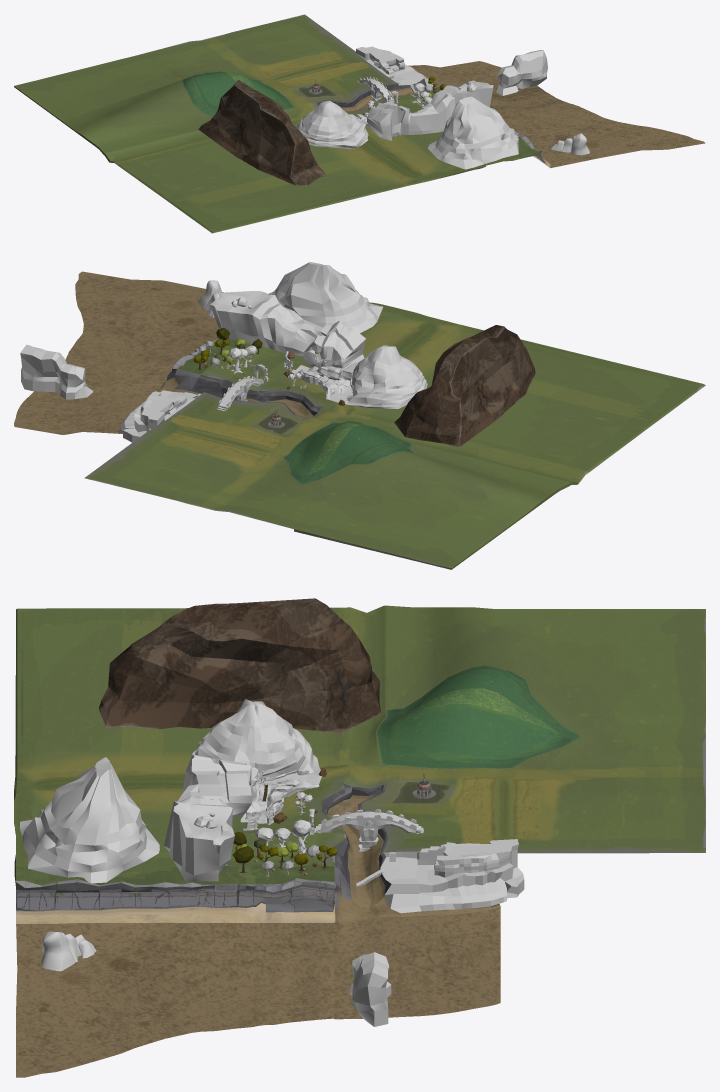
The model's file is CurrentEnviroModel.fbx.
The picture shows the model from 3 angles, top to bottom: view 1: azimuth 30°, elevation 25°; view 2: azimuth 150°, elevation 25°; view 3: azimuth 270°, elevation 25°; orthographic projection. The views are drawn at different scales.
Visible parts, largest first — view 1: TerrainSides, beach, Mountain2, Mountain4, MountainMain, Hill, Mountain2nd, Mountain3rdPart, WaterRock, cliff1, waterRock2, beachSides (+3 smaller); view 2: TerrainSides, beach, Mountain2, Mountain4, Hill, Mountain3rdPart, MountainMain, WaterRock, Mountain2nd, cliff1, tunnelSides, beachSides (+3 smaller); view 3: TerrainSides, beach, Mountain2, beachSides, Hill, Mountain4, cliff1, MountainMain, Mountain3rdPart, river, Mountain2nd, WaterRock (+4 smaller).
Part boxes in pixels (x1,y1,x2,y2): TerrainSides: (14,14,519,233); beach: (408,61,705,167); Mountain2: (198,80,328,185); Mountain4: (428,96,518,169); MountainMain: (296,100,368,148); Hill: (182,71,294,116); Mountain2nd: (366,101,431,140); Mountain3rdPart: (417,80,493,133); WaterRock: (496,50,547,95); cliff1: (356,46,433,86); waterRock2: (551,133,589,155); beachSides: (431,84,550,167); TerrainSides: (84,302,705,569); beach: (14,271,223,434); Mountain2: (394,325,535,447); Mountain4: (269,262,382,333); Hill: (283,421,413,484); Mountain3rdPart: (210,291,315,355); MountainMain: (338,345,427,408); WaterRock: (20,344,93,399); Mountain2nd: (293,321,365,367); cliff1: (120,390,198,442); tunnelSides: (191,375,321,417); beachSides: (166,291,273,391); TerrainSides: (14,605,705,868); beach: (16,907,500,1077); Mountain2: (99,598,381,733); beachSides: (14,865,351,923); Hill: (377,666,581,768); Mountain4: (20,757,159,883); cliff1: (380,839,524,913); MountainMain: (192,699,321,781); Mountain3rdPart: (164,792,234,881); river: (327,795,500,922); Mountain2nd: (181,754,254,818); WaterRock: (349,952,391,1026).
Bounding box in the file's own units: 34309 × 5932 × 24054.
